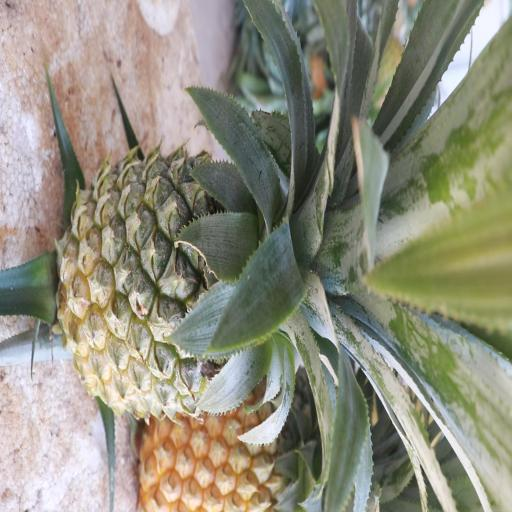------------------------------: (70, 152, 359, 415)
Pineapple - v8 v1: (141, 394, 344, 512)
